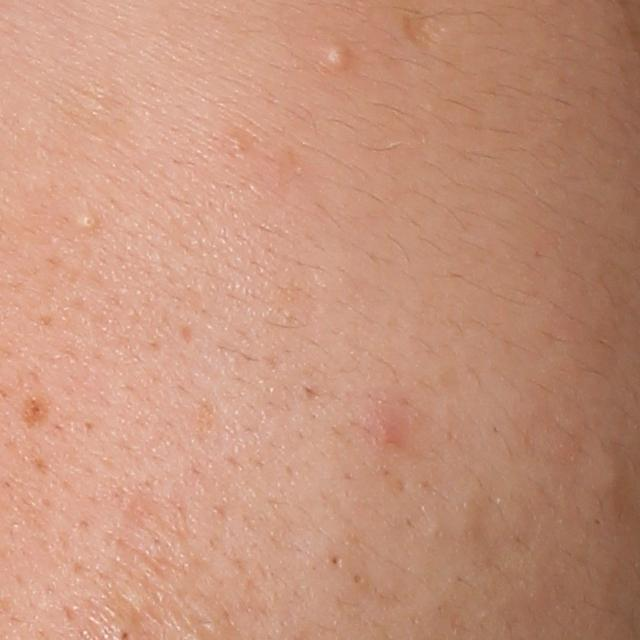atrophic_scar: (400, 10, 447, 52), (180, 323, 194, 346)
comedo: (591, 454, 628, 496), (323, 39, 354, 73), (319, 547, 347, 570), (74, 210, 102, 231)
papule: (358, 397, 403, 449)
